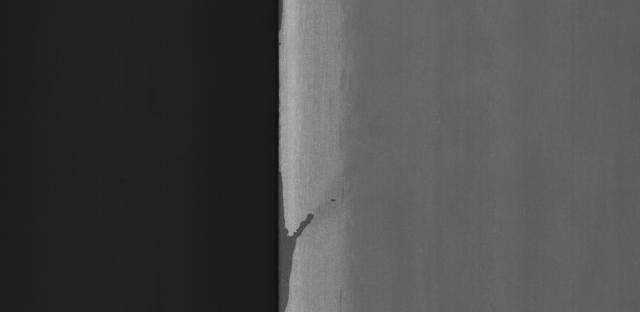water_spot: (264, 160, 322, 311)
